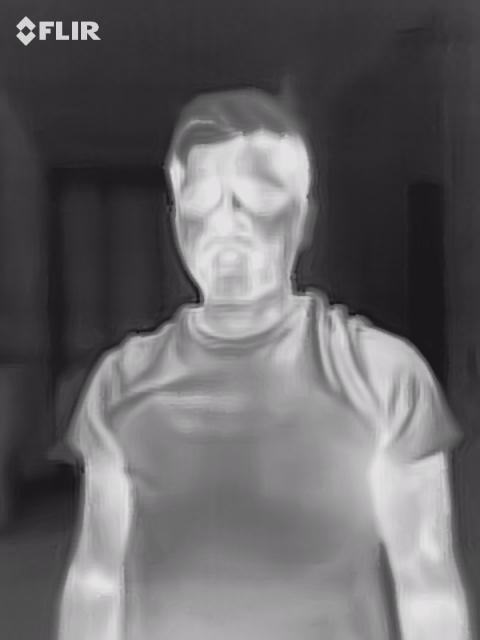head: (163, 87, 311, 302)
